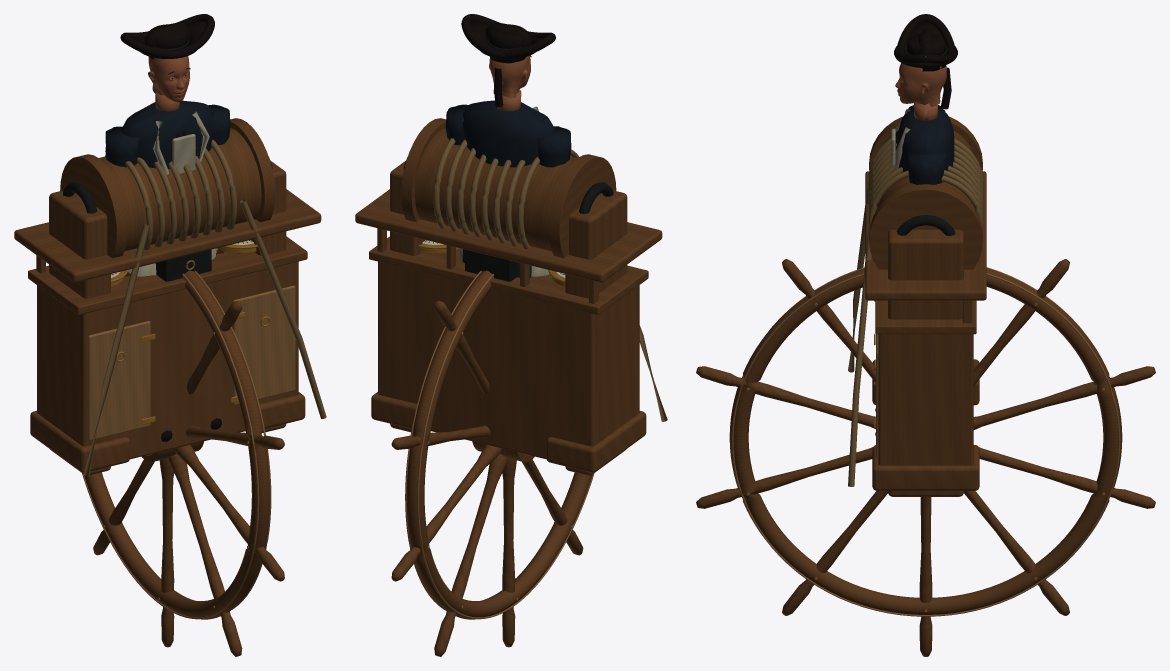
Rendered from quarterdeck-detail.glb.
The picture shows the model from 3 angles, left to right: view 1: azimuth 30°, elevation 25°; view 2: azimuth 150°, elevation 25°; view 3: azimuth 270°, elevation 25°; orthographic projection.
Visible parts, largest first — view 1: authored_binnacle · Hand-worn oak, authored_wheel_stand · Hand-worn oak, authored_binnacle · Cut oak end grain, authored_wheel · Hand-worn oak, authored_wheel_stand · Laid hemp, authored_officer · Indigo wool, Spoke and hand grip.004, authored_wheel · Cut oak end grain, head.001 · Hair and leather, Spoke and hand grip.005, Spoke and hand grip.003, authored_officer · Unbleached duck (+10 smaller); view 2: authored_binnacle · Hand-worn oak, authored_wheel_stand · Hand-worn oak, authored_wheel · Hand-worn oak, authored_wheel_stand · Laid hemp, authored_officer · Indigo wool, head.001 · Hair and leather, Spoke and hand grip.006, authored_wheel · Cut oak end grain, Spoke and hand grip.005, Spoke and hand grip.007, Jacket sleeve.002, Spoke and hand grip.004 (+7 smaller); view 3: authored_binnacle · Hand-worn oak, authored_wheel · Hand-worn oak, authored_wheel_stand · Hand-worn oak, authored_wheel_stand · Laid hemp, authored_wheel · Cut oak end grain, head.001 · Hair and leather, authored_officer · Indigo wool, Spoke and hand grip.008, Spoke and hand grip.002, Spoke and hand grip.007, Spoke and hand grip.003, Spoke and hand grip.005 (+8 smaller).
Boxes of the visible parts, left/top/right/bottom form: authored_binnacle · Hand-worn oak: left=14, top=189, right=321, bottom=459; authored_wheel_stand · Hand-worn oak: left=30, top=118, right=305, bottom=474; authored_binnacle · Cut oak end grain: left=88, top=285, right=295, bottom=440; authored_wheel · Hand-worn oak: left=84, top=270, right=269, bottom=619; authored_wheel_stand · Laid hemp: left=83, top=139, right=326, bottom=476; authored_officer · Indigo wool: left=121, top=100, right=213, bottom=168; Spoke and hand grip.004: left=168, top=454, right=242, bottom=656; authored_wheel · Cut oak end grain: left=82, top=271, right=271, bottom=619; head.001 · Hair and leather: left=120, top=14, right=214, bottom=79; Spoke and hand grip.005: left=159, top=458, right=174, bottom=647; Spoke and hand grip.003: left=174, top=444, right=284, bottom=581; authored_officer · Unbleached duck: left=128, top=111, right=216, bottom=276; authored_binnacle · Hand-worn oak: left=355, top=189, right=662, bottom=459; authored_wheel_stand · Hand-worn oak: left=371, top=118, right=646, bottom=475; authored_wheel · Hand-worn oak: left=406, top=270, right=592, bottom=619; authored_wheel_stand · Laid hemp: left=433, top=138, right=667, bottom=421; authored_officer · Indigo wool: left=462, top=100, right=555, bottom=277; head.001 · Hair and leather: left=461, top=14, right=555, bottom=107; Spoke and hand grip.006: left=434, top=454, right=508, bottom=656; authored_wheel · Cut oak end grain: left=405, top=271, right=594, bottom=619; Spoke and hand grip.005: left=502, top=458, right=516, bottom=647; Spoke and hand grip.007: left=391, top=444, right=502, bottom=581; Jacket sleeve.002: left=537, top=126, right=571, bottom=167; Spoke and hand grip.004: left=522, top=459, right=583, bottom=555; authored_binnacle · Hand-worn oak: left=865, top=171, right=986, bottom=465; authored_wheel · Hand-worn oak: left=729, top=268, right=1122, bottom=614; authored_wheel_stand · Hand-worn oak: left=869, top=116, right=982, bottom=496; authored_wheel_stand · Laid hemp: left=848, top=138, right=983, bottom=486; authored_wheel · Cut oak end grain: left=731, top=267, right=1120, bottom=616; head.001 · Hair and leather: left=897, top=14, right=954, bottom=109; authored_officer · Indigo wool: left=896, top=107, right=954, bottom=171; Spoke and hand grip.008: left=973, top=366, right=1155, bottom=429; Spoke and hand grip.002: left=696, top=366, right=875, bottom=429; Spoke and hand grip.007: left=979, top=447, right=1155, bottom=508; Spoke and hand grip.003: left=696, top=447, right=872, bottom=508; Spoke and hand grip.005: left=919, top=497, right=932, bottom=656.
Size of the model in its own units: 1.15 by 2.75 by 1.84.
Materials: 13 (13 with a texture image).
